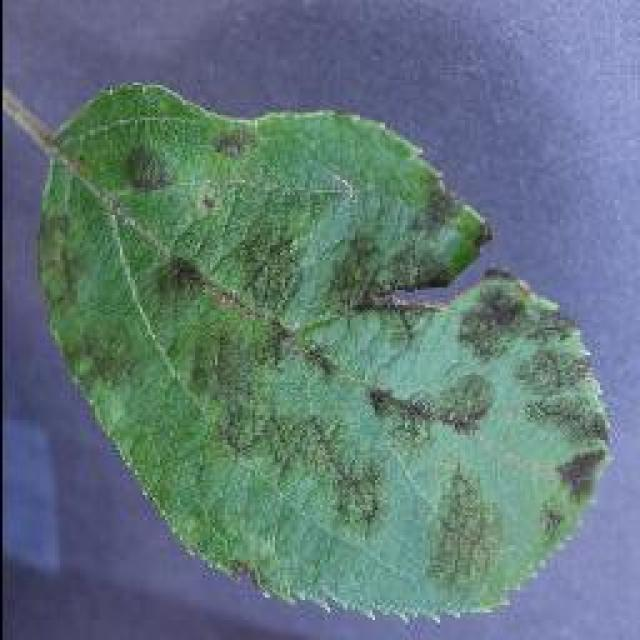apple scab disease: (5, 77, 615, 625)
